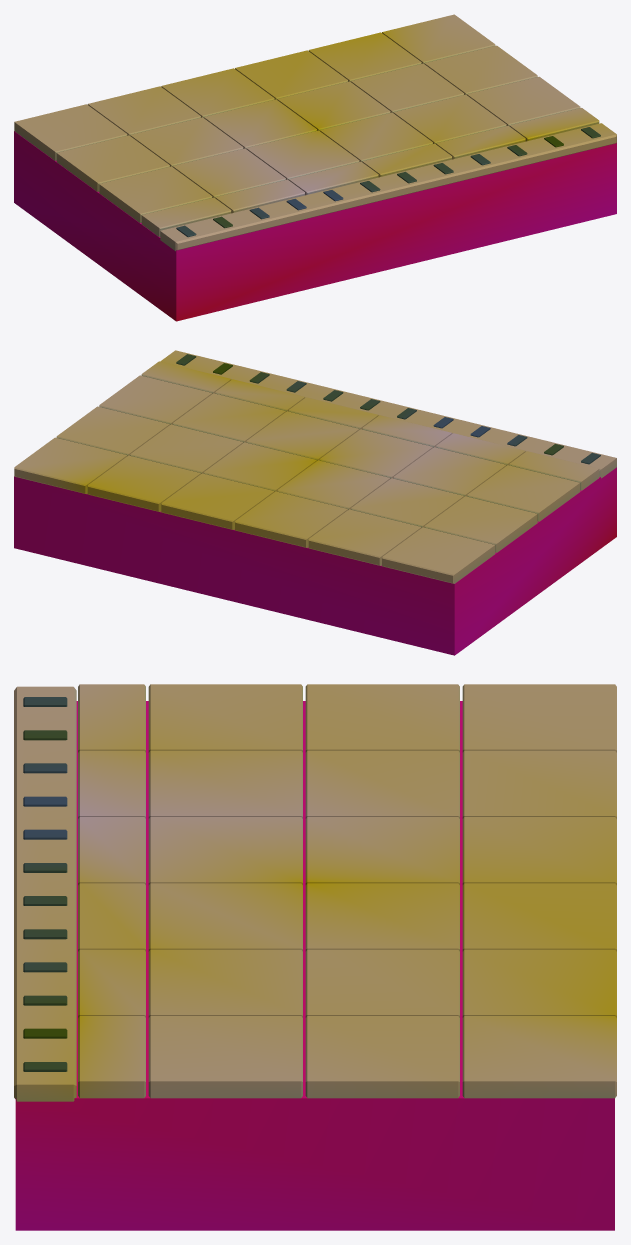
The model's file is GS_Apron_Hall_6m.glb.
3 renders of one model, top to bottom at view 1: azimuth 30°, elevation 25°; view 2: azimuth 150°, elevation 25°; view 3: azimuth 270°, elevation 25°, orthographic. The views are drawn at different scales.
Visible parts, largest first — view 1: GS_Apron_Hall_6m; view 2: GS_Apron_Hall_6m; view 3: GS_Apron_Hall_6m.
Boxes of the visible parts, box(x1,y1,x2,y2) form: GS_Apron_Hall_6m: box(14, 14, 616, 321); GS_Apron_Hall_6m: box(14, 350, 616, 655); GS_Apron_Hall_6m: box(14, 684, 616, 1230).
Size of the model in its own units: 6 by 1.05 by 3.84.
